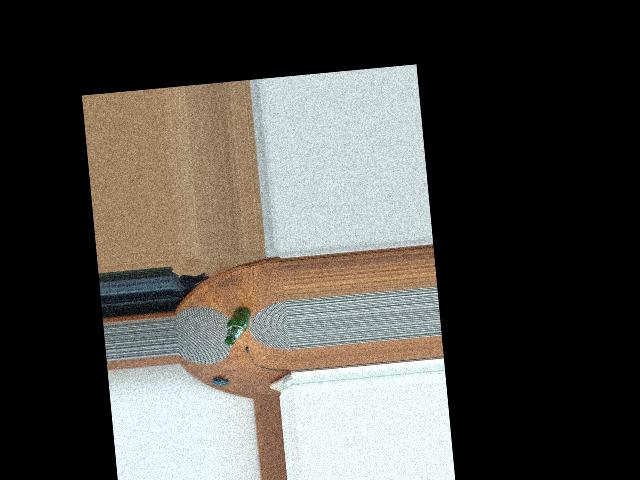beer: (221, 305, 255, 345)
